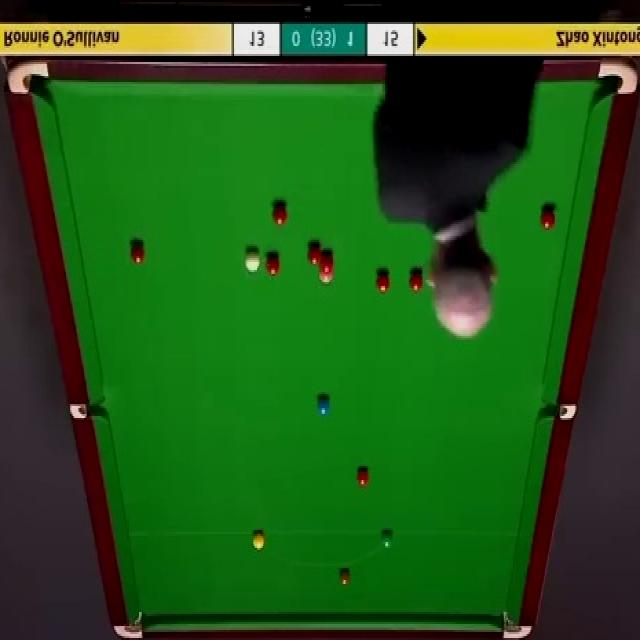blue-ball: (317, 397, 330, 416)
brown-ball: (338, 569, 350, 587)
green-ball: (380, 530, 393, 551)
pink-ball: (318, 268, 335, 286)
red-ball: (271, 202, 289, 226), (130, 238, 145, 266), (374, 270, 390, 293), (539, 209, 556, 230), (409, 272, 424, 295), (265, 254, 281, 275), (308, 243, 322, 265), (356, 466, 369, 487), (318, 253, 334, 270)
white-ball: (246, 248, 260, 273)
yellow-ball: (252, 532, 264, 550)
